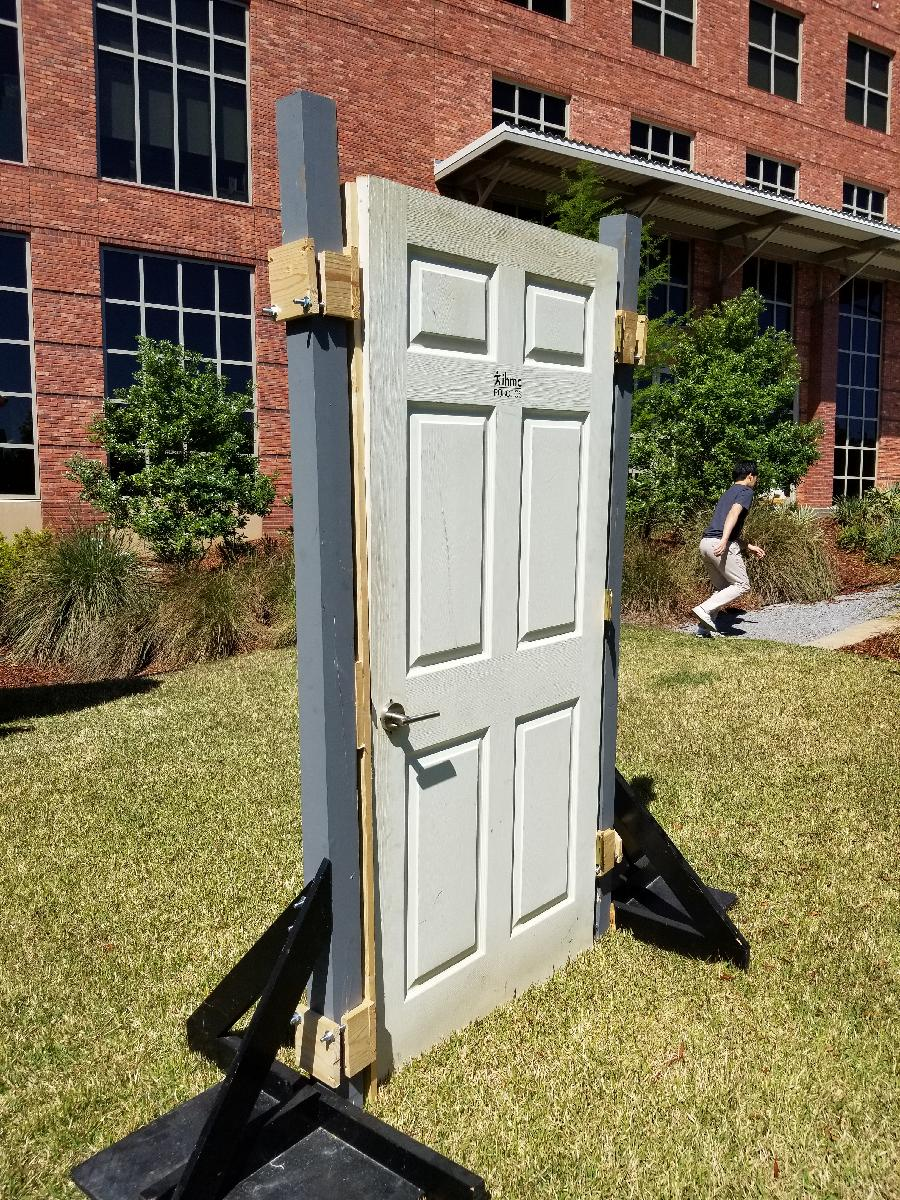door: (352, 171, 622, 1083)
doorHandle: (377, 698, 443, 735)
